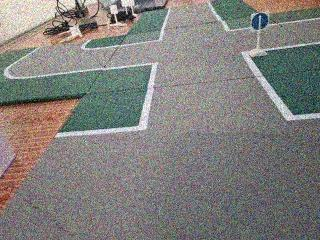straight: (247, 10, 270, 32)
